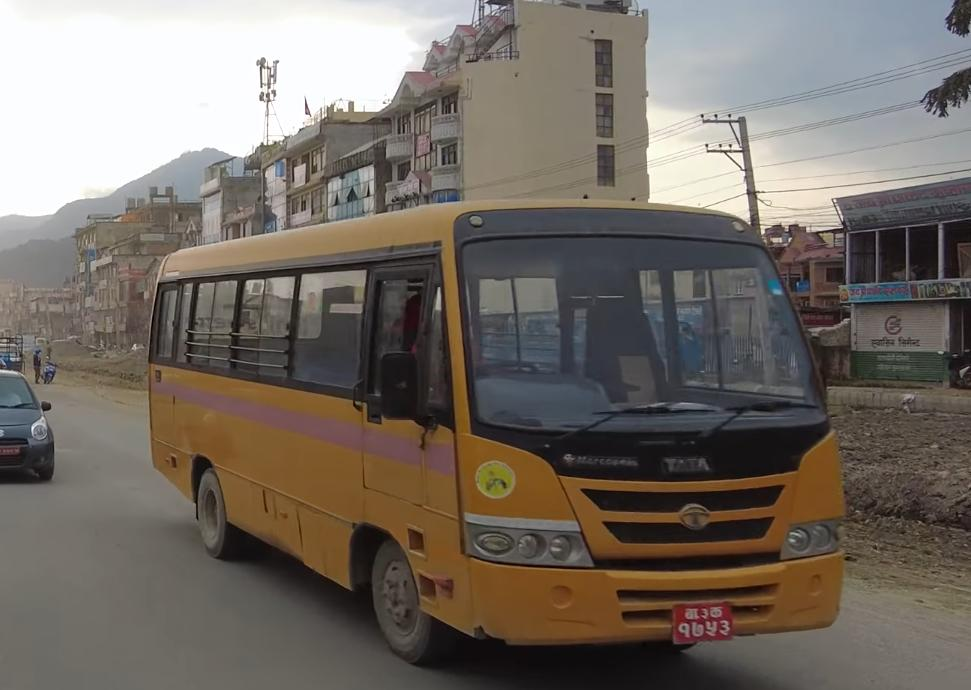car: (0, 365, 60, 486)
school_bus: (138, 189, 842, 678)
